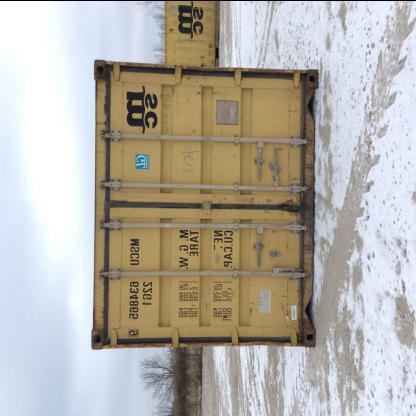Damage: (164, 138, 208, 174), (283, 81, 304, 138), (158, 78, 176, 140), (172, 72, 212, 96)
